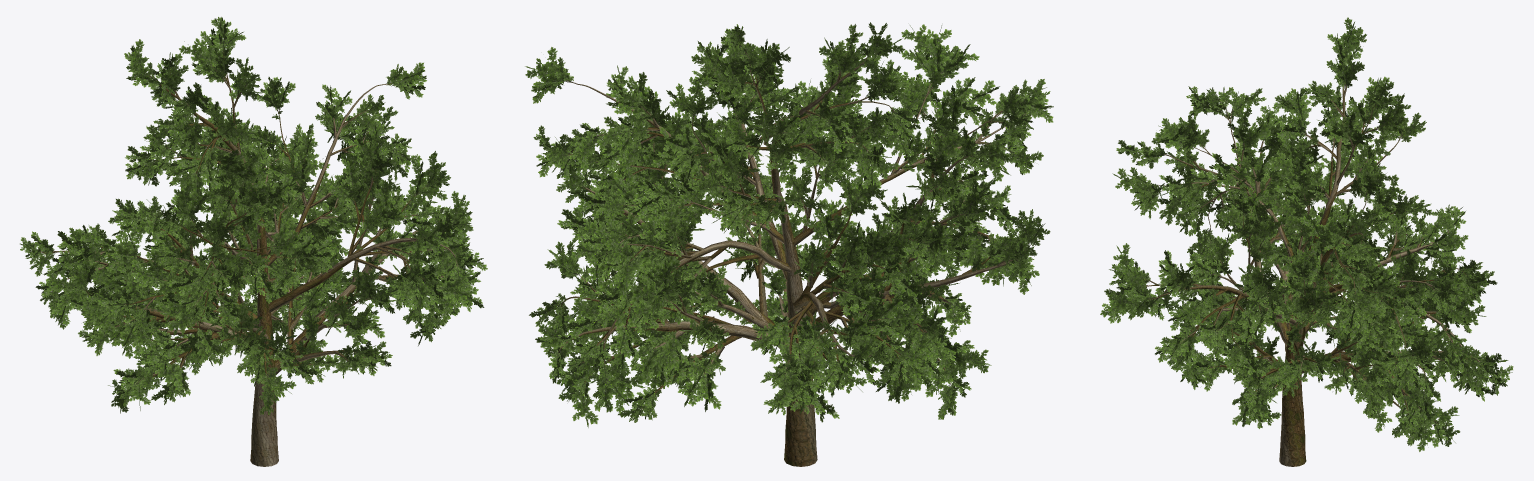
Rendered from oak-101.glb.
3 views of the same model, side by side, from view 1: azimuth 30°, elevation 25°; view 2: azimuth 150°, elevation 25°; view 3: azimuth 270°, elevation 25° (orthographic). The views are drawn at different scales.
Visible parts, largest first — view 1: leaves, branches; view 2: leaves, branches; view 3: leaves, branches.
Boxes of the visible parts, <box> form: leaves: <box>20,17,487,415</box>; branches: <box>40,51,457,466</box>; leaves: <box>525,22,1053,427</box>; branches: <box>558,52,1025,466</box>; leaves: <box>1100,17,1513,451</box>; branches: <box>1140,84,1482,466</box>.
Bounding box in the file's own units: 18.6 × 18 × 17.39.
2 materials, 2 textured.
